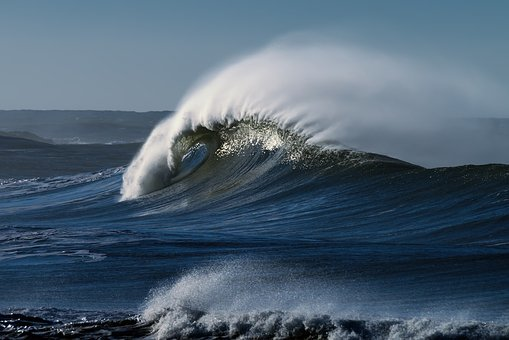sea: (5, 96, 506, 335)
sky: (2, 2, 508, 95)
